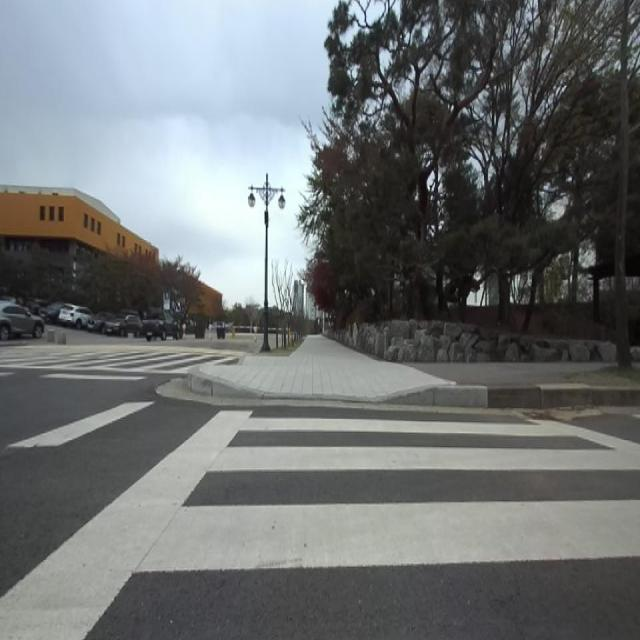sidewalk: (194, 335, 459, 402), (415, 363, 640, 387)
